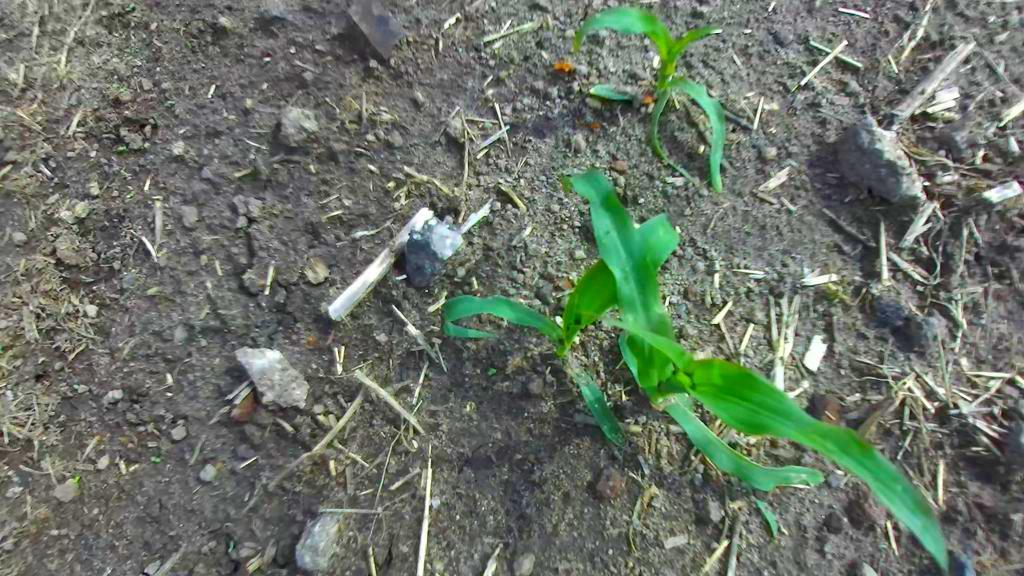BroWeed: (552, 61, 572, 72), (124, 0, 136, 13), (226, 539, 235, 553), (486, 367, 496, 376), (150, 455, 161, 462), (116, 145, 127, 151), (73, 475, 80, 483)
Maize: (488, 156, 978, 576), (420, 168, 684, 449)
